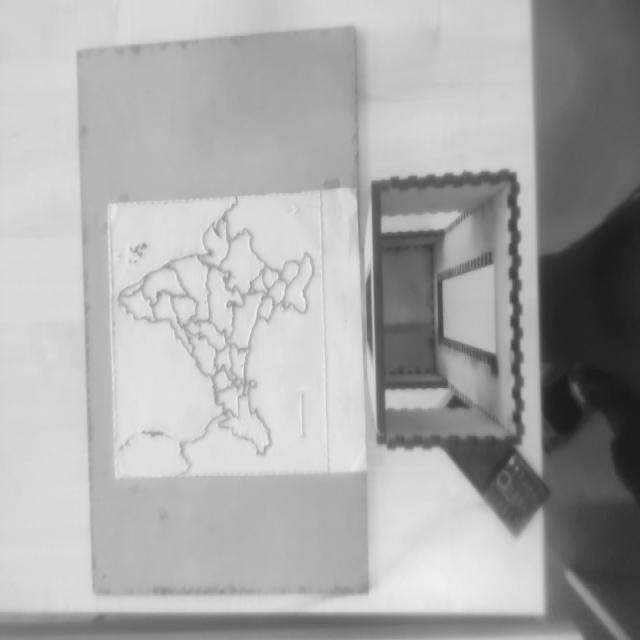map: (109, 192, 328, 478)
